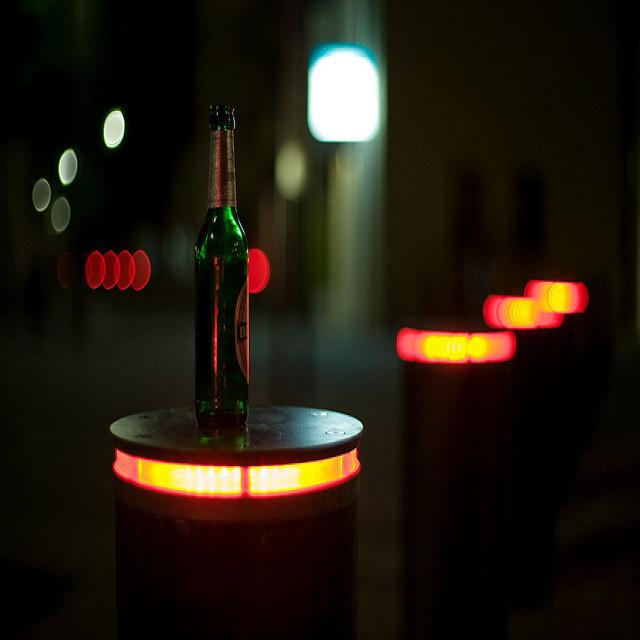Bottle: (171, 89, 273, 439), (434, 153, 490, 342)
